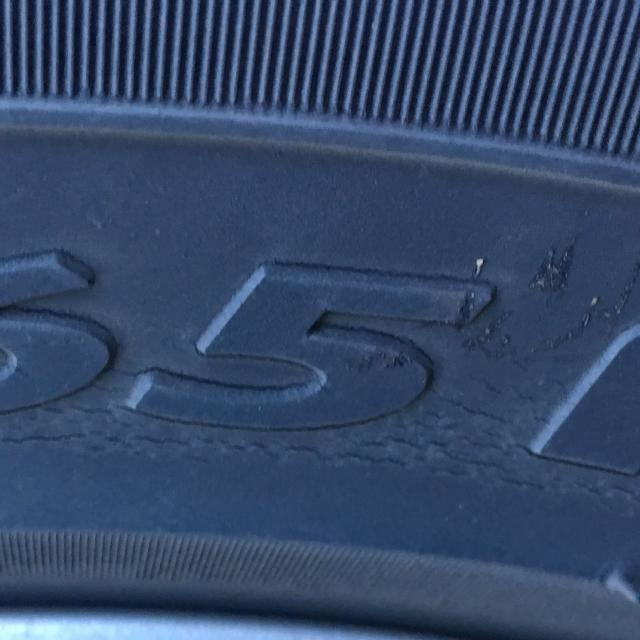Cracks: (0, 217, 640, 549)
